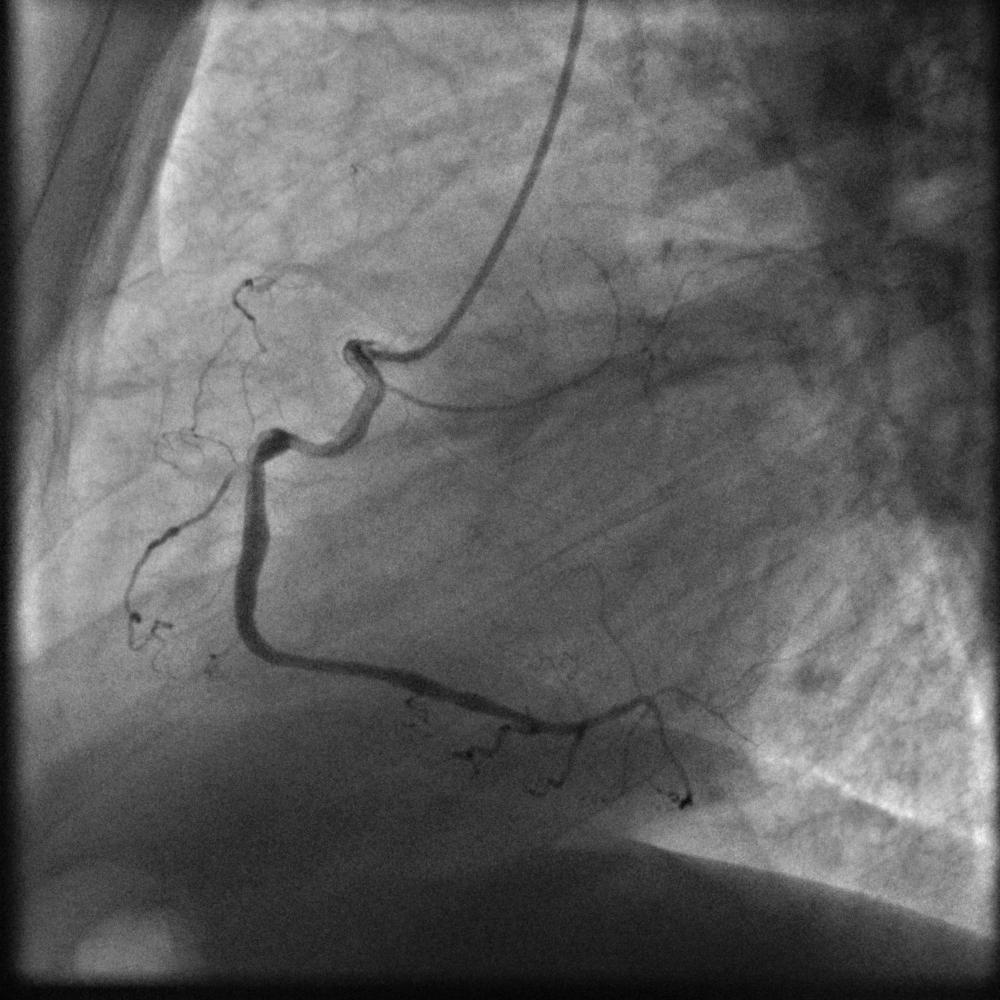Stenosis: (283, 427, 311, 457)
